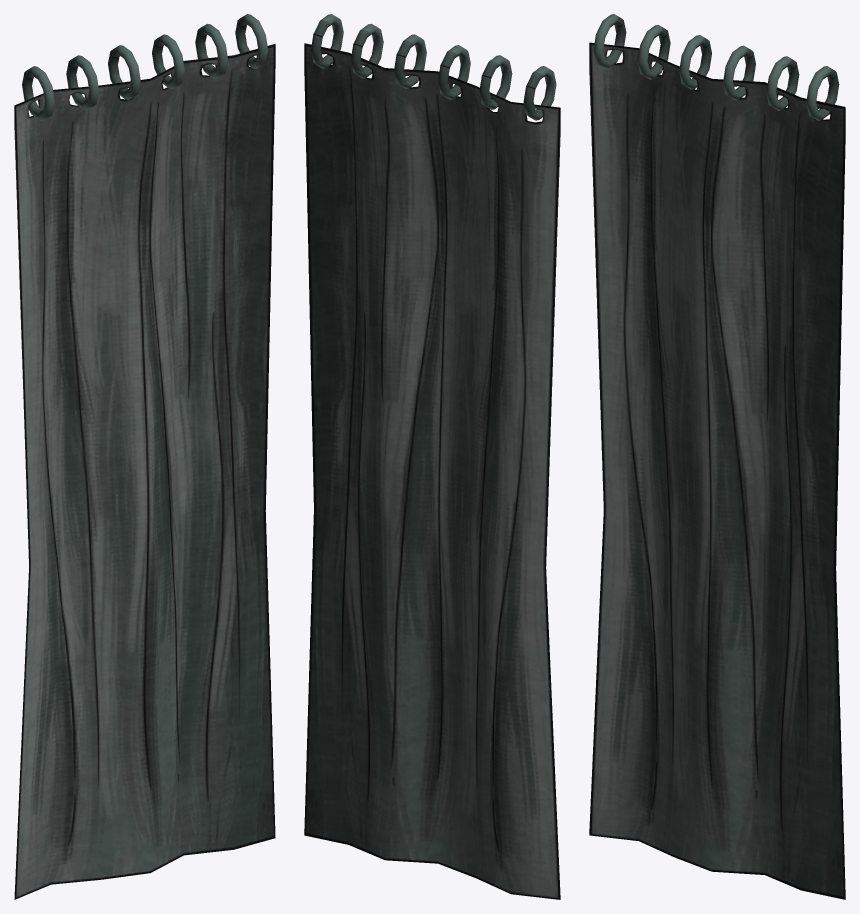
File: ShowerCurtain_bathroom_01.fbx
3 views of the same model, side by side, from view 1: azimuth 30°, elevation 25°; view 2: azimuth 150°, elevation 25°; view 3: azimuth 330°, elevation 25° (orthographic).
Parts seen in each view (by area): view 1: ShowerCurtain; view 2: ShowerCurtain; view 3: ShowerCurtain.
Part boxes in pixels (x1,y1,x2,y2): ShowerCurtain: [14, 14, 275, 899]; ShowerCurtain: [304, 14, 560, 899]; ShowerCurtain: [589, 14, 845, 899].
Size of the model in its own units: 86.36 by 263 by 16.29.
Materials: 1 (1 with a texture image).
